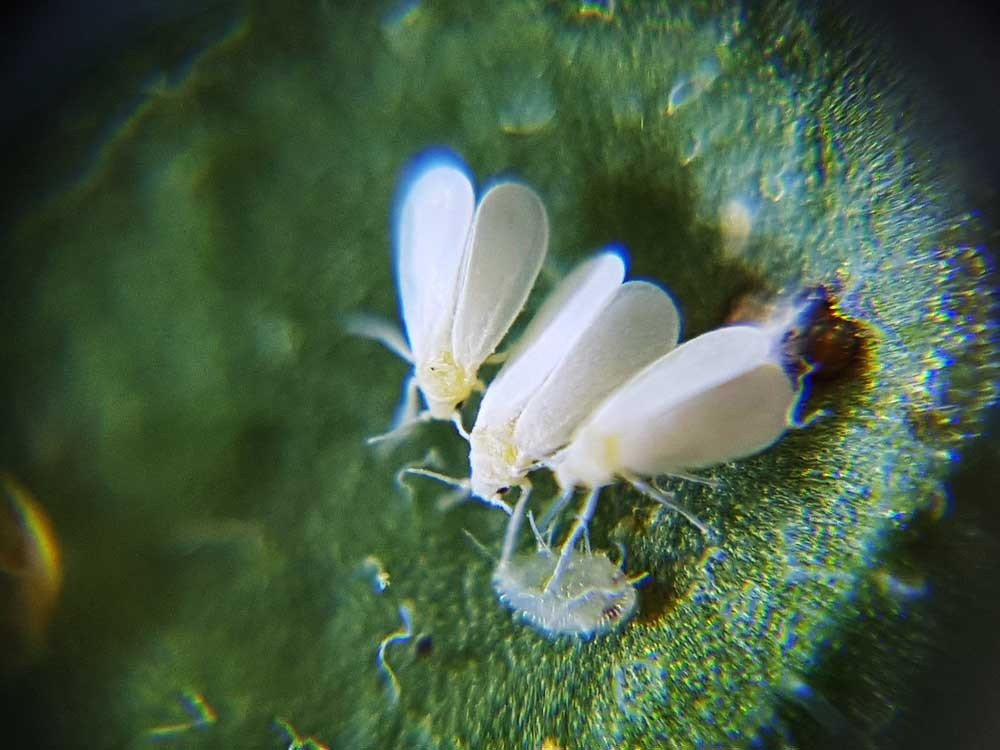Mosca Blanca: (308, 134, 553, 474), (430, 242, 692, 506), (533, 315, 822, 532)
